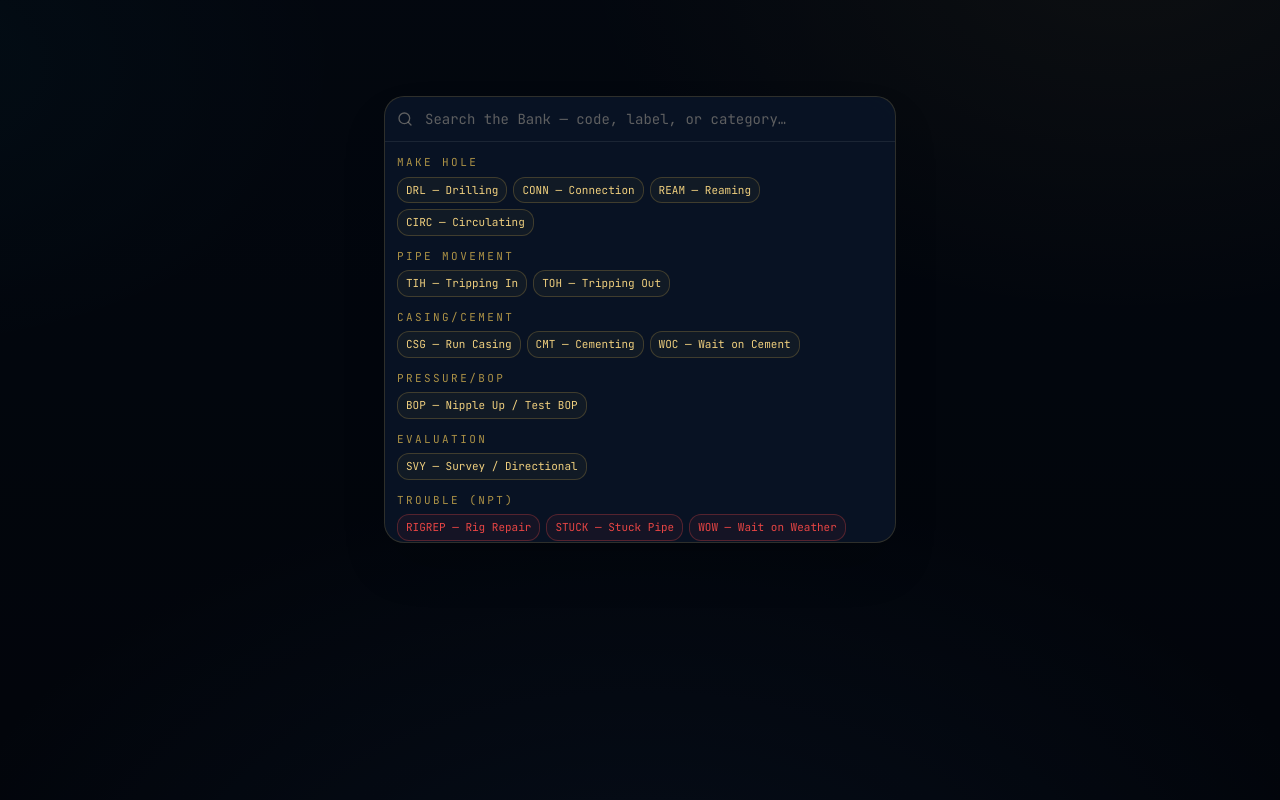
it: BankSearchPalette › filters by code/label
The width and height of the screenshot is (1280, 800).
Type "stuck" into the search field labelled "Search the Bank — code, label, or category…" at [640, 119], box [385,97,895,141]
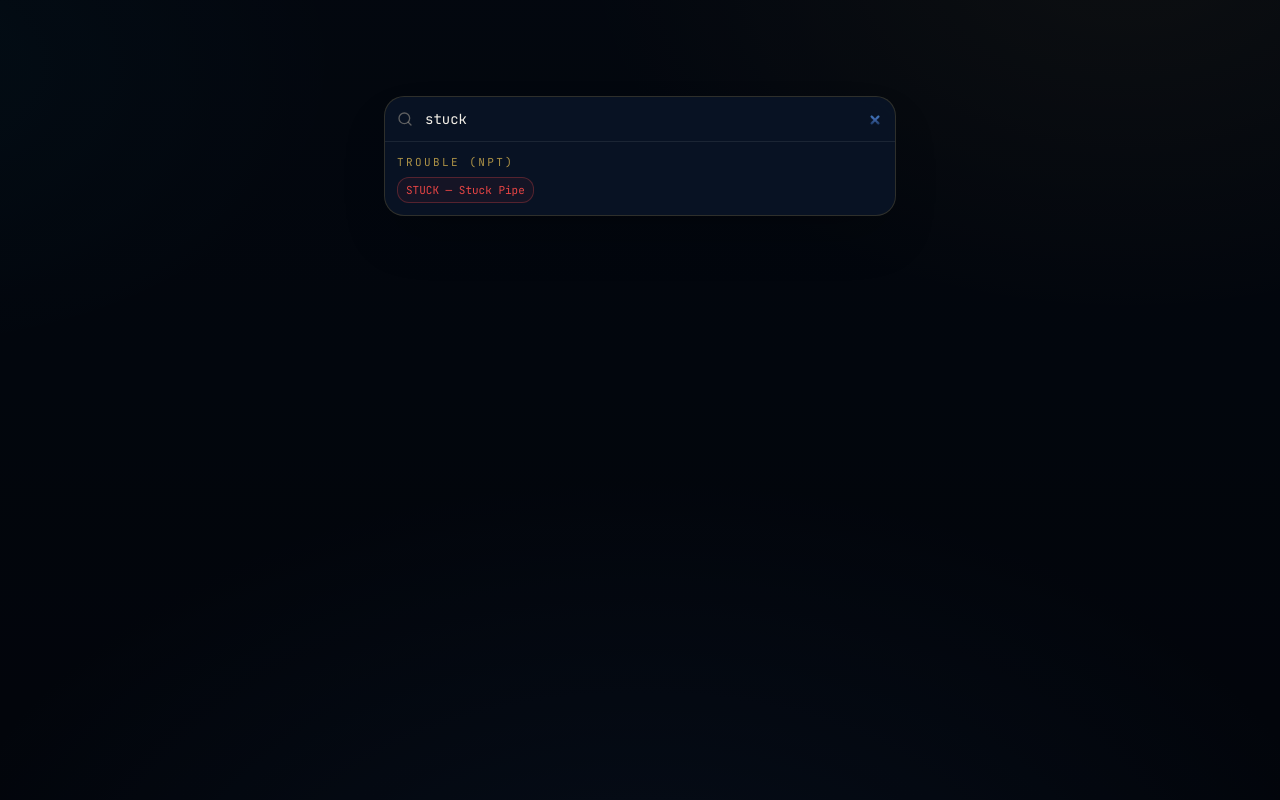
Expected: the button "STUCK — Stuck Pipe" is shown, [397,176,534,203]
Now the button "Tripping In" is gone
